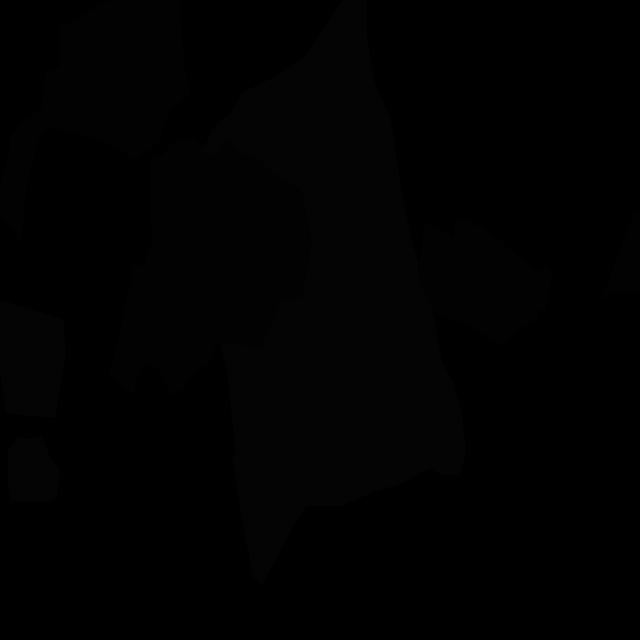cardboard: (108, 136, 312, 396), (0, 0, 190, 243), (418, 218, 552, 346), (598, 211, 640, 302)
soft_plastic: (202, 0, 466, 585), (0, 300, 66, 418), (8, 436, 60, 502)
